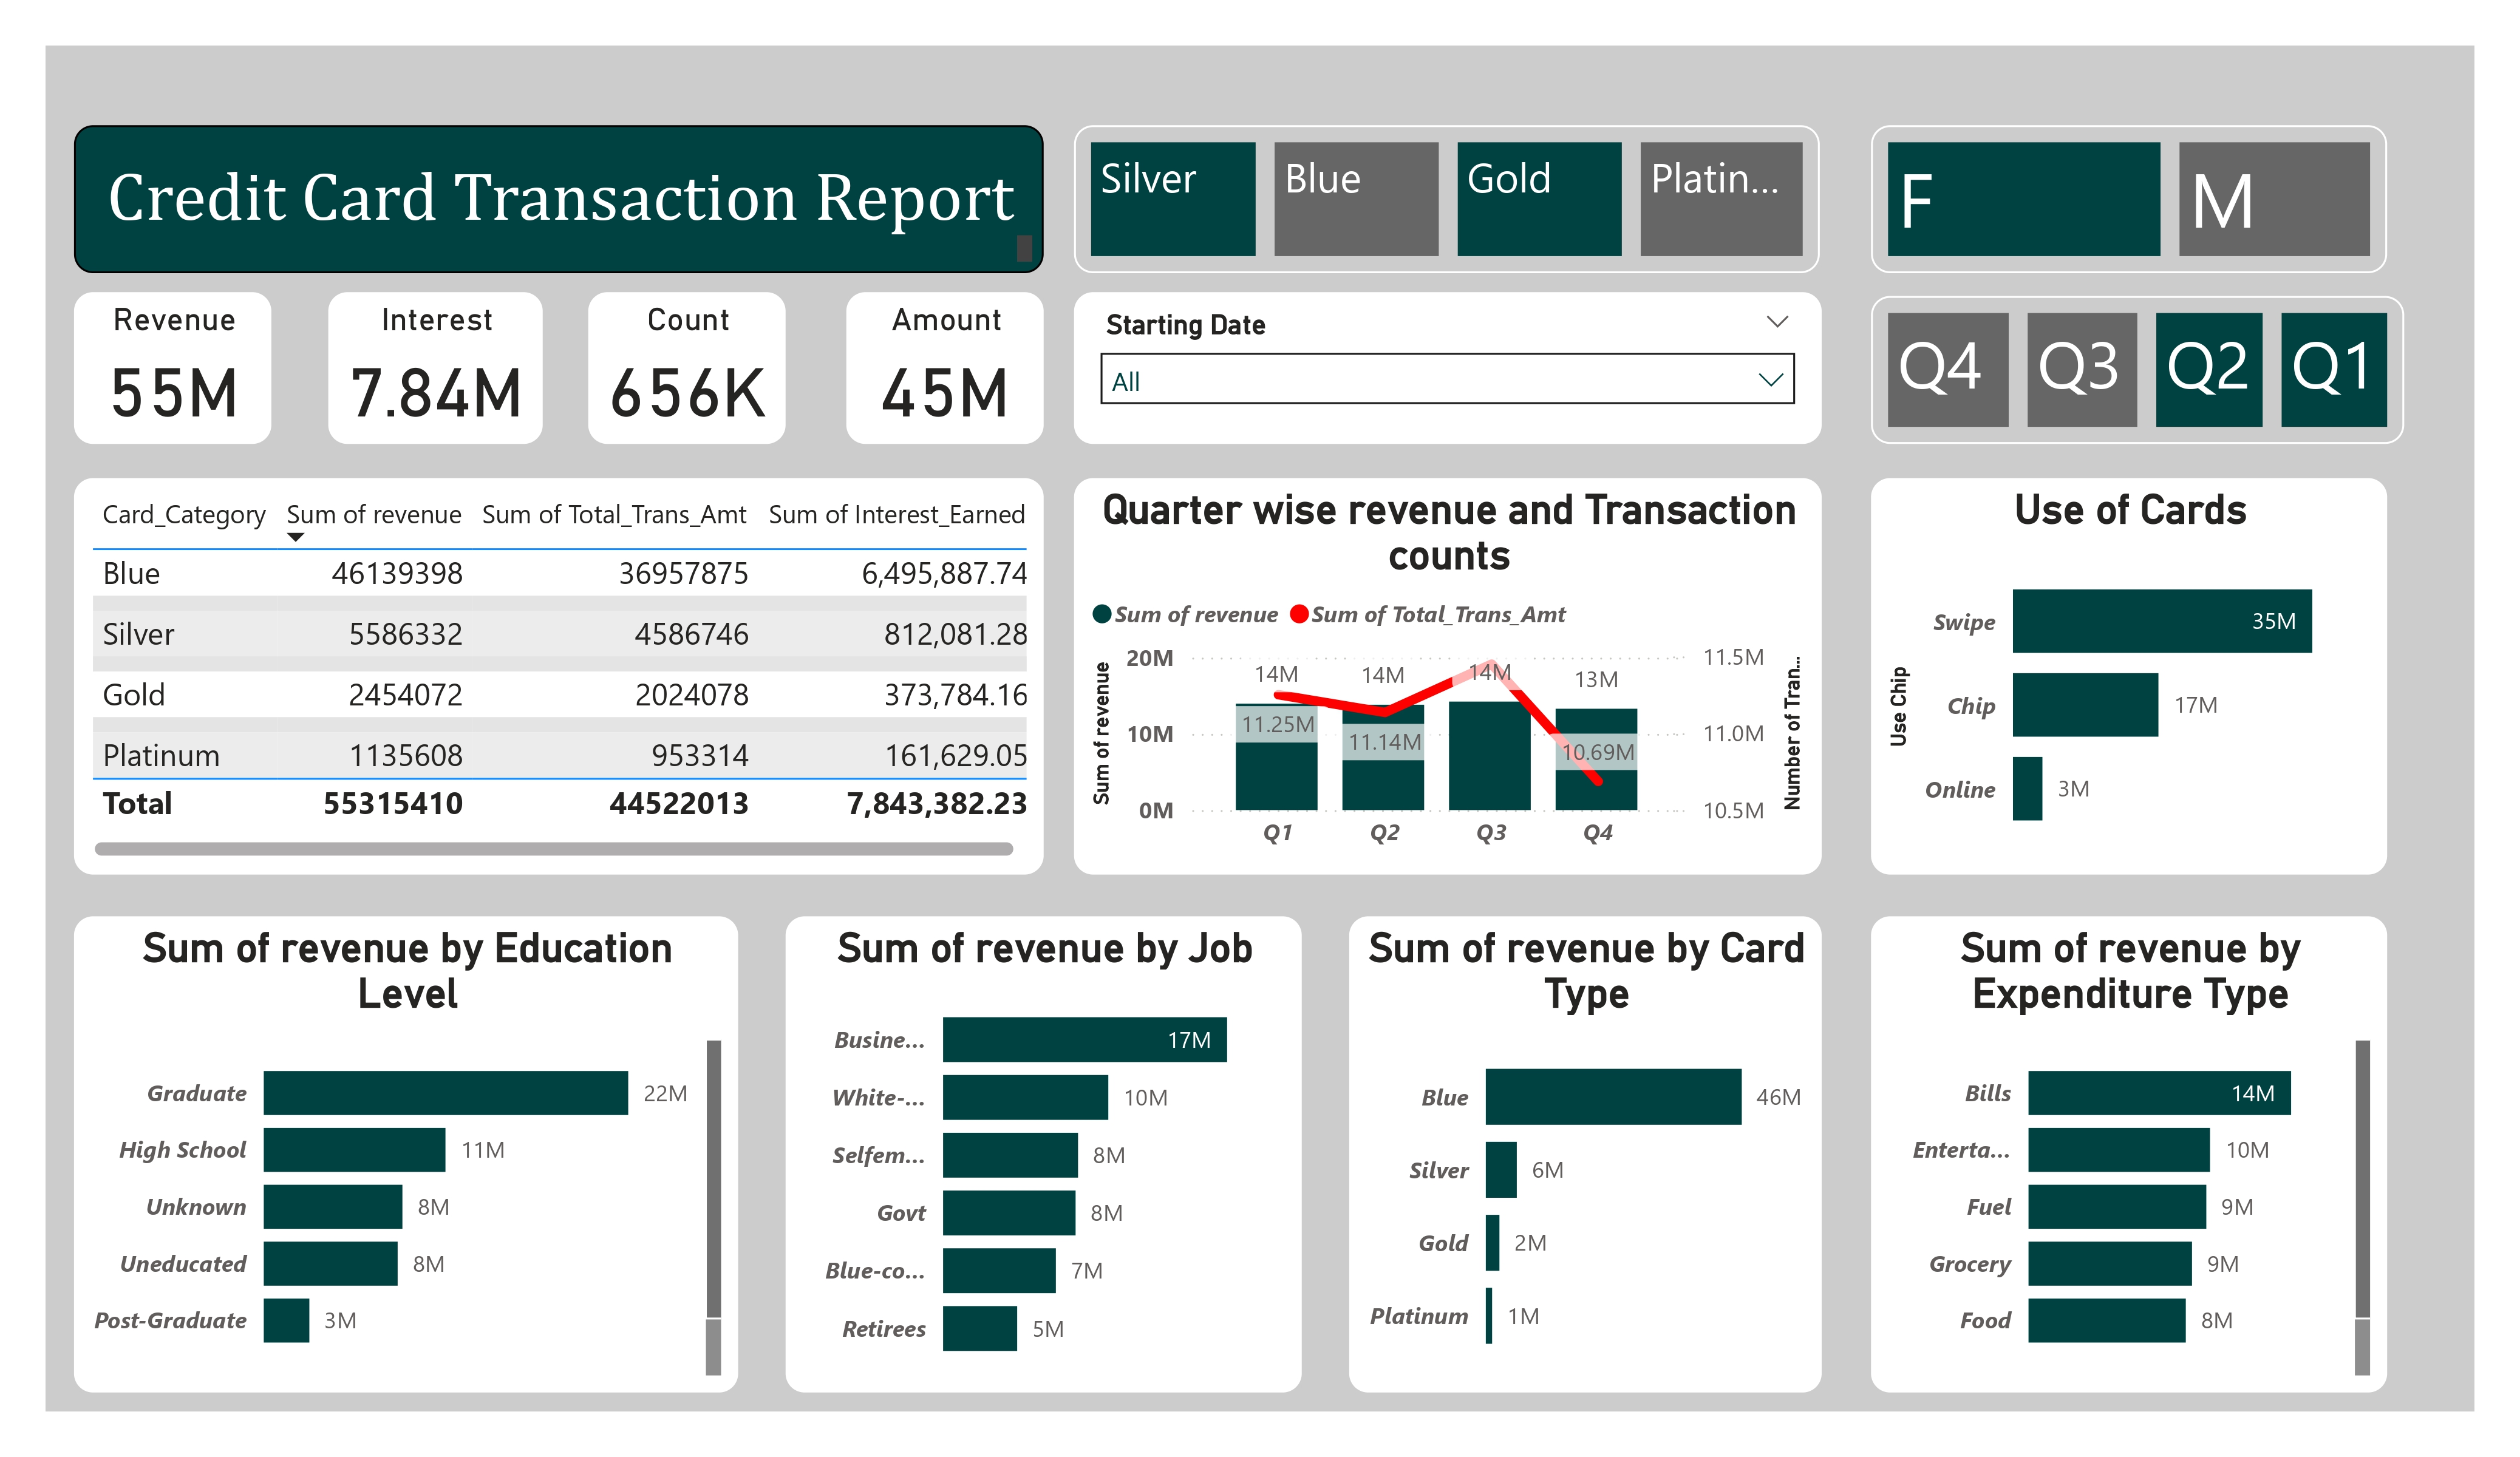

Layout of this report page (visuals, bound fields, positions):
{"tool":"powerbi","page":{"name":"CC Transcation","canvas":[1280,720],"ordinal":1},"visuals":[{"type":"lineStackedColumnComboChart","title":"Quarter wise revenue and Transaction counts","fields":{"Category":["credit_card.Qtr"],"Y":["Sum(credit_card.revenue)"],"Y2":["Sum(credit_card.Total_Trans_Amt)"]},"box":[542.2,228,393.6,208.7],"z":0},{"type":"barChart","title":"Sum of revenue by Expenditure Type","fields":{"Y":["Sum(credit_card.revenue)"],"Category":["credit_card.Exp Type"]},"box":[961.8,459.4,272.2,250.7],"z":1000},{"type":"barChart","title":"Sum of revenue by Education Level","fields":{"Y":["Sum(credit_card.revenue)"],"Category":["customer.Education_Level"]},"box":[14.7,459.4,350.5,250.7],"z":2000},{"type":"barChart","title":"Sum of revenue by Job","fields":{"Y":["Sum(credit_card.revenue)"],"Category":["customer.Customer_Job"]},"box":[390.2,459.4,272.2,250.7],"z":3000},{"type":"barChart","title":"Sum of revenue by Card Type","fields":{"Y":["Sum(credit_card.revenue)"],"Category":["credit_card.Card_Category"]},"box":[687.3,459.4,248.4,250.7],"z":4000},{"type":"barChart","title":"Use of Cards","fields":{"Category":["credit_card.Use Chip"],"Y":["Sum(credit_card.revenue)"]},"box":[961.8,228,272.2,208.7],"z":5000},{"type":"tableEx","fields":{"Values":["credit_card.Card_Category","Sum(credit_card.revenue)","Sum(credit_card.Total_Trans_Amt)","Sum(credit_card.Interest_Earned)"]},"box":[14.7,228,511.5,208.7],"z":6000},{"type":"card","title":"Revenue","fields":{"Values":["Sum(credit_card.revenue)"]},"box":[14.7,130.4,104.3,79.4],"z":7000},{"type":"card","title":"Interest","fields":{"Values":["Sum(credit_card.Interest_Earned)"]},"box":[148.6,130.4,113.4,79.4],"z":8000},{"type":"card","title":"Count","fields":{"Values":["Sum(credit_card.Total_Trans_Vol)"]},"box":[285.8,130.4,104.3,79.4],"z":9000},{"type":"card","title":"Amount","fields":{"Values":["Sum(credit_card.Total_Trans_Amt)"]},"box":[421.9,130.4,104.3,79.4],"z":10000},{"type":"slicer","fields":{"Values":["credit_card.Week_Start_Date"]},"box":[542.2,130.4,393.6,79.4],"z":11000},{"type":"treemap","fields":{"Group":["credit_card.Qtr"],"Values":["Avg(credit_card.Client_Num)"]},"box":[961.8,131.6,281.3,78.3],"z":12000},{"type":"treemap","fields":{"Values":["CountNonNull(credit_card.Client_Num)"],"Group":["customer.Gender"]},"box":[962.2,41.8,272.2,78.2],"z":13000},{"type":"treemap","fields":{"Values":["Avg(credit_card.Client_Num)"],"Group":["credit_card.Card_Category"]},"box":[541.8,41.8,393.5,78.2],"z":14000},{"type":"textbox","title":"Credit Card Transaction Report","box":[14.8,41.8,510.8,78.2],"z":15000}]}

Visuals, with their boxes in screenshot pixels (x1, y1, x2, y2):
"Quarter wise revenue and Transaction counts" lineStackedColumnComboChart: locate(1074, 478, 1821, 874)
"Sum of revenue by Expenditure Type" barChart: locate(1871, 917, 2387, 1393)
"Sum of revenue by Education Level" barChart: locate(73, 917, 738, 1393)
"Sum of revenue by Job" barChart: locate(786, 917, 1303, 1393)
"Sum of revenue by Card Type" barChart: locate(1350, 917, 1821, 1393)
"Use of Cards" barChart: locate(1871, 478, 2387, 874)
tableEx - credit_card.Card_Category x Sum(credit_card.revenue): locate(73, 478, 1044, 874)
"Revenue" card: locate(73, 293, 271, 444)
"Interest" card: locate(327, 293, 543, 444)
"Count" card: locate(588, 293, 786, 444)
"Amount" card: locate(846, 293, 1044, 444)
slicer - credit_card.Week_Start_Date: locate(1074, 293, 1821, 444)
treemap - credit_card.Qtr x Avg(credit_card.Client_Num): locate(1871, 295, 2405, 444)
treemap - CountNonNull(credit_card.Client_Num) x customer.Gender: locate(1871, 125, 2388, 273)
treemap - Avg(credit_card.Client_Num) x credit_card.Card_Category: locate(1074, 125, 1820, 273)
"Credit Card Transaction Report" textbox: locate(73, 125, 1043, 273)
